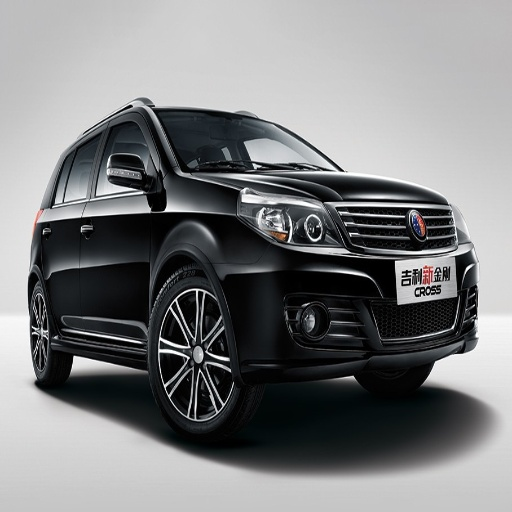front_bumper: (236, 202, 481, 371)
front_right_door: (80, 108, 159, 334)
front_right_light: (241, 193, 336, 245)
